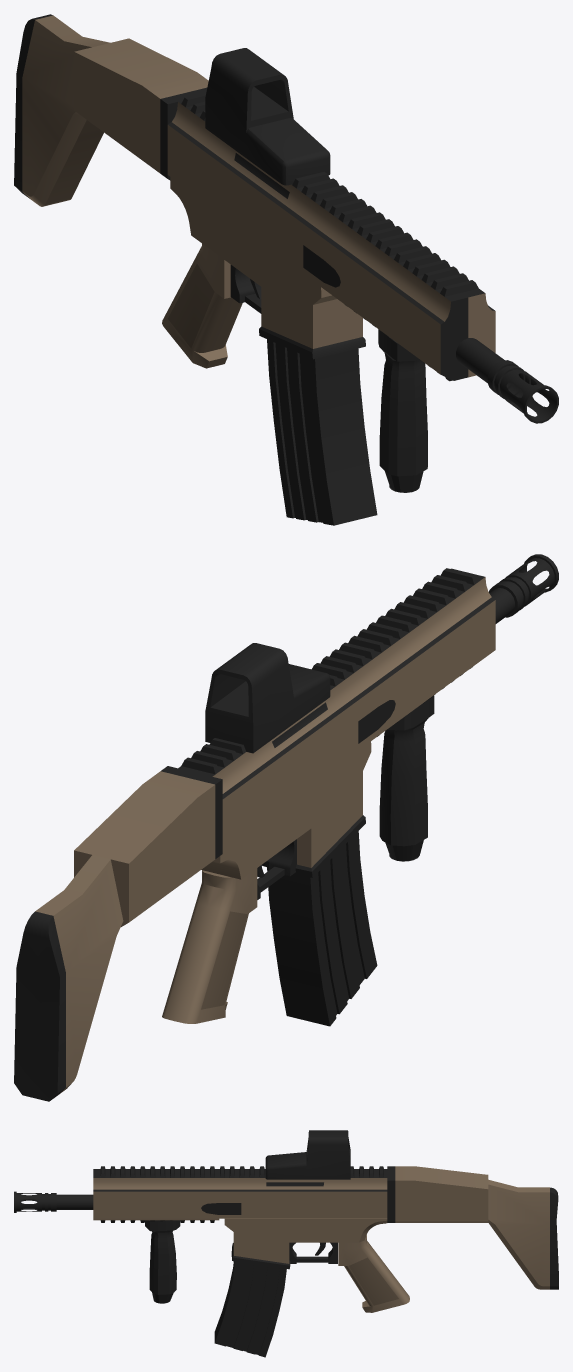
Rendered from Gun05.fbx.
The picture shows the model from 3 angles, top to bottom: view 1: azimuth 30°, elevation 25°; view 2: azimuth 150°, elevation 25°; view 3: azimuth 270°, elevation 25°; orthographic projection. The views are drawn at different scales.
Visible parts, largest first — view 1: Gun05; view 2: Gun05; view 3: Gun05.
Boxes of the visible parts, box(x1,y1,x2,y2) form: Gun05: box(14, 14, 558, 525); Gun05: box(14, 554, 558, 1101); Gun05: box(14, 1130, 558, 1357).
Size of the model in its own units: 11.27 by 79.37 by 180.
